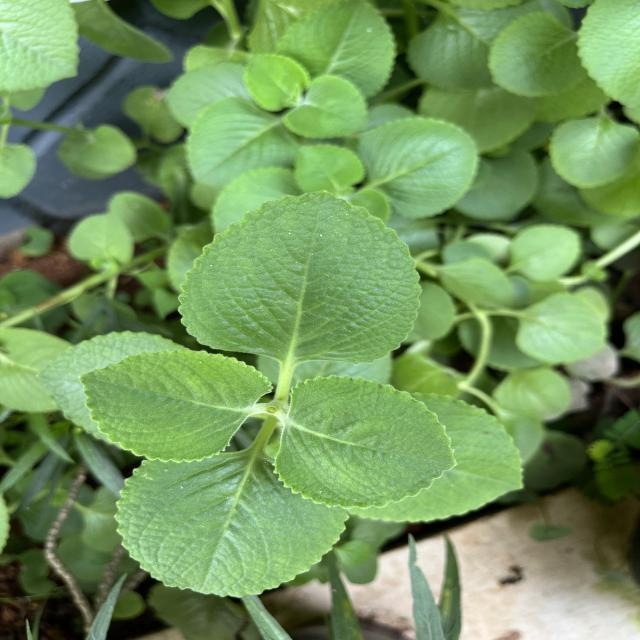Plectranthus barbatus: (176, 188, 424, 364), (112, 458, 352, 600), (272, 373, 458, 510), (77, 347, 276, 464), (275, 0, 400, 101), (358, 117, 479, 220), (185, 96, 302, 187), (486, 10, 590, 99), (546, 115, 640, 190), (514, 292, 606, 364), (280, 75, 370, 140), (242, 53, 311, 112), (294, 142, 366, 194)
